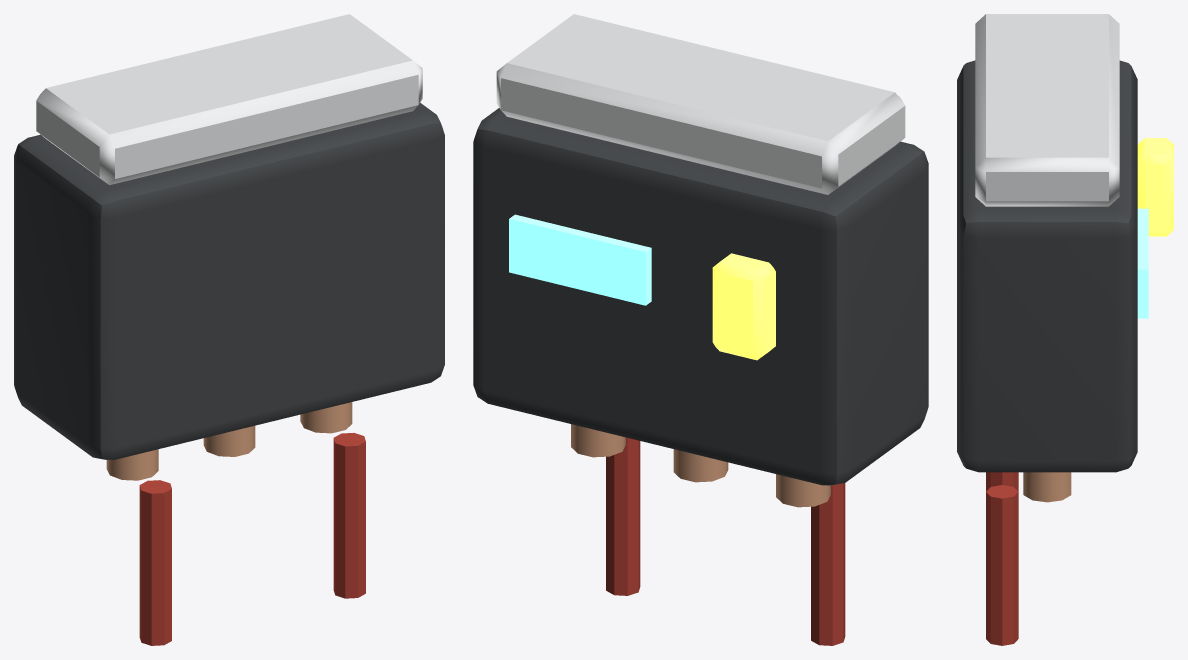
Rendered from sentry_junction.glb.
The picture shows the model from 3 angles, left to right: view 1: azimuth 30°, elevation 25°; view 2: azimuth 150°, elevation 25°; view 3: azimuth 270°, elevation 25°; orthographic projection. The views are drawn at different scales.
Visible parts, largest first — view 1: sentry_junction; view 2: sentry_junction; view 3: sentry_junction.
Part boxes in pixels (x1,y1,x2,y2): sentry_junction: (14, 14, 444, 645); sentry_junction: (473, 14, 928, 645); sentry_junction: (957, 14, 1173, 645).
Bounding box in the file's own units: 0.22 × 0.31 × 0.12.
